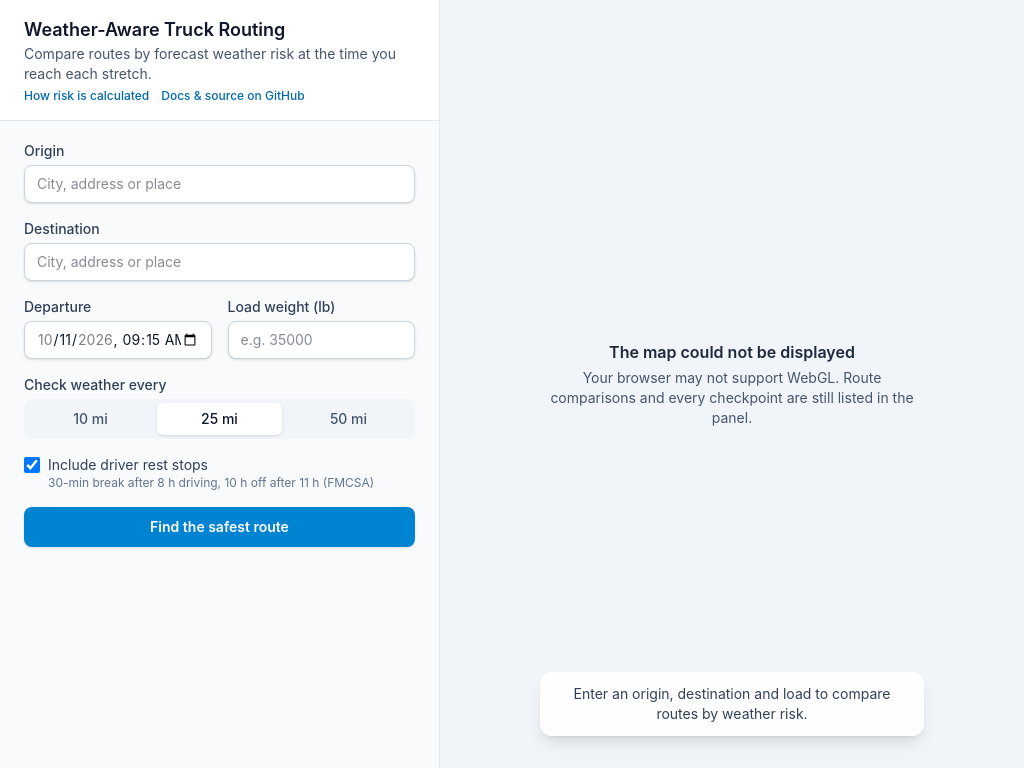
Scenario: App › shows a loading state while planning
In the dropdown labelled "Origin": (220, 184) [24,165,415,203], type "Dallas"
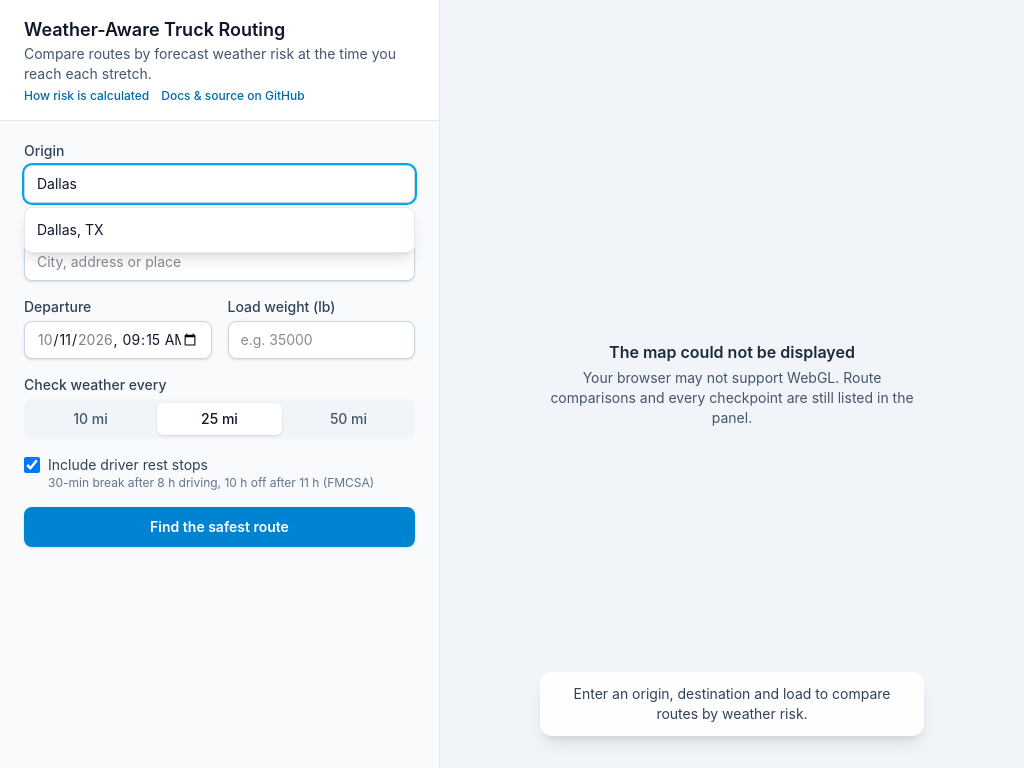
Click the option "Dallas, TX": (70, 230) [37,221,104,238]
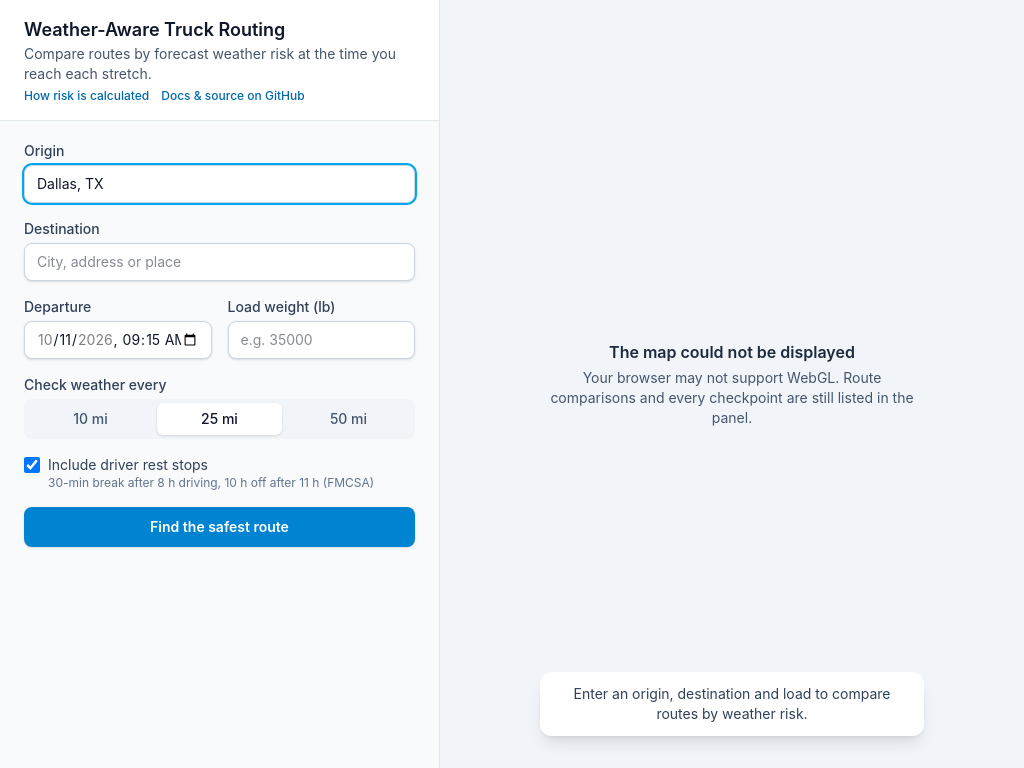
In the dropdown labelled "Destination": (220, 262) [24,243,415,281], type "Houston"
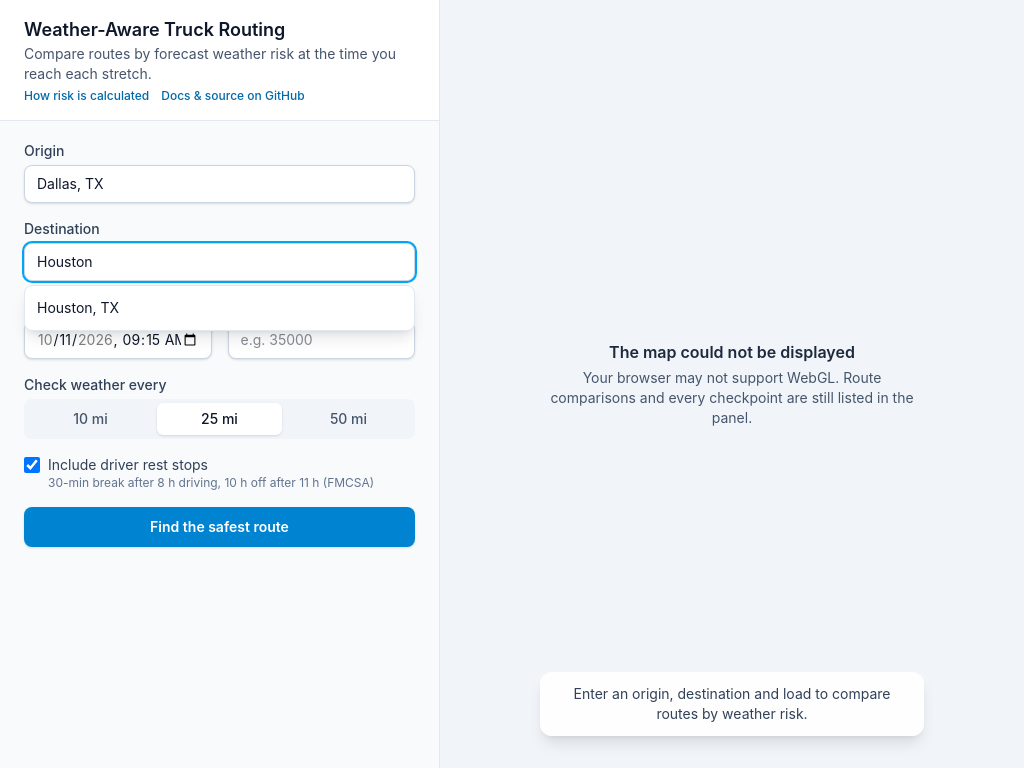
Click the option "Houston, TX": (78, 308) [37,299,119,316]
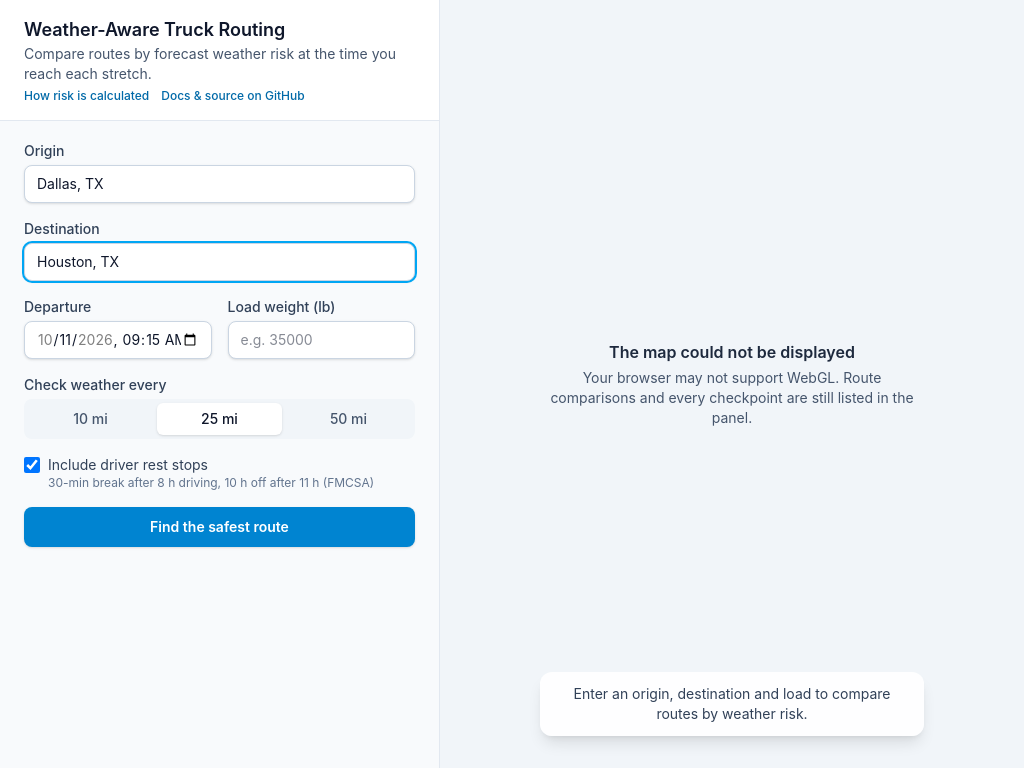
In the number field labelled "Load weight (lb)": (321, 340) [228,321,415,359], type "42000"
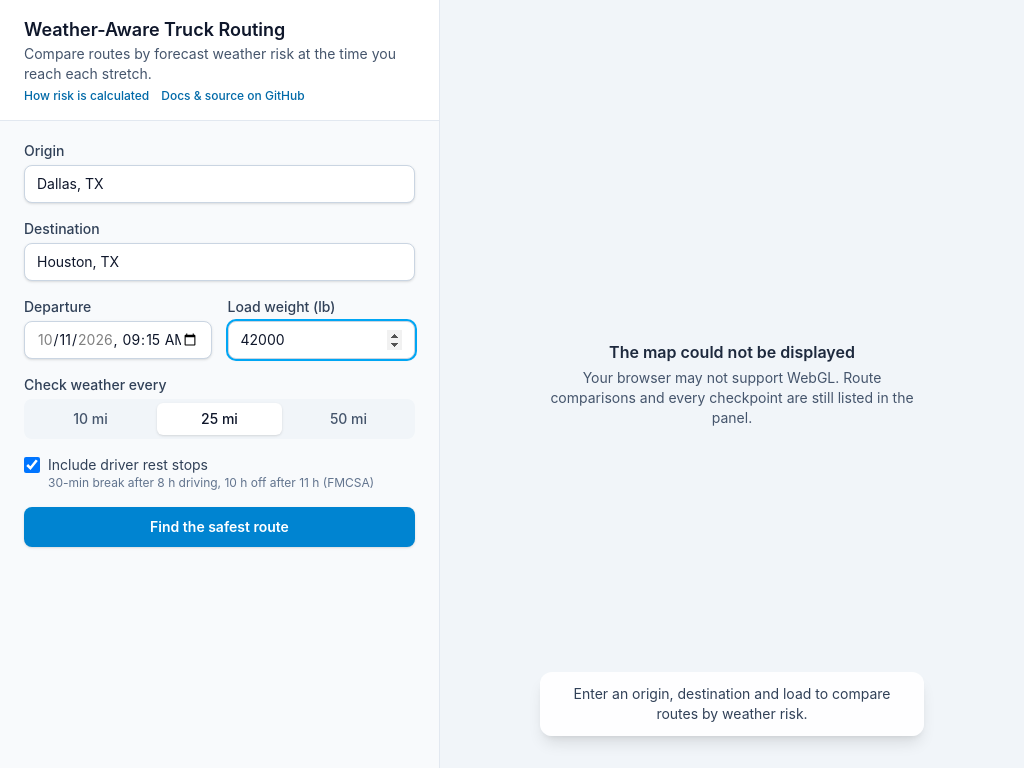
Click the button "Find the safest route": (220, 527) [24,507,415,547]
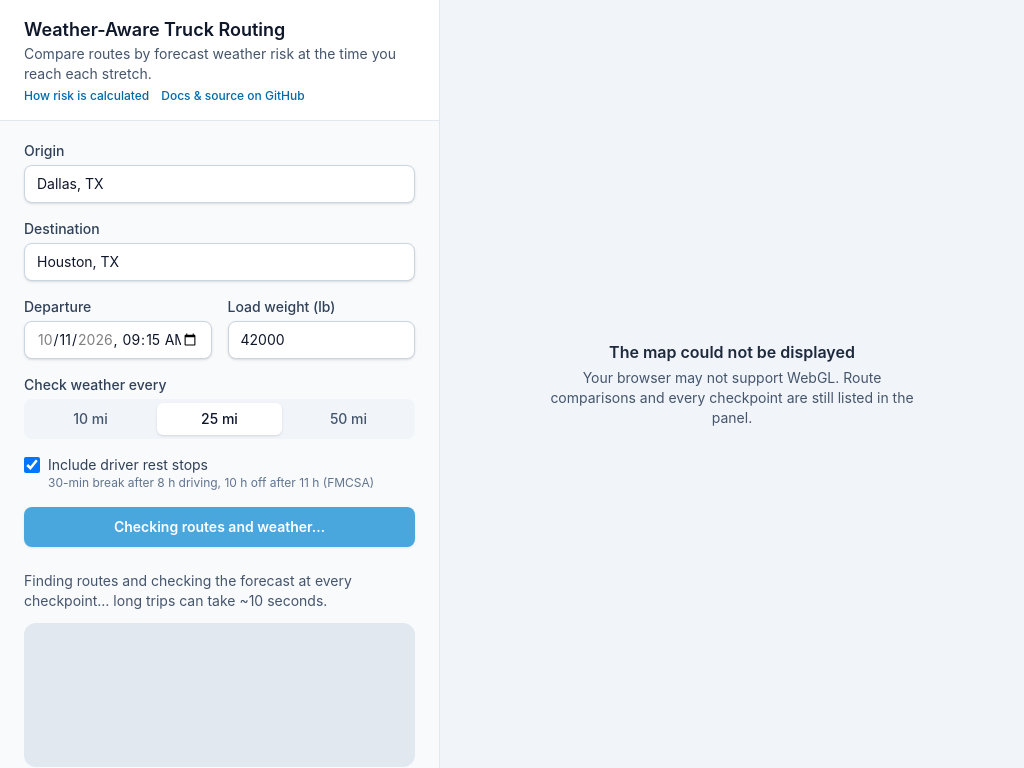
Now the 2nd message shows "Finding routes", box [24,572,352,609]
Now the button "Checking routes and weather…" is disabled, box [24,507,415,547]
